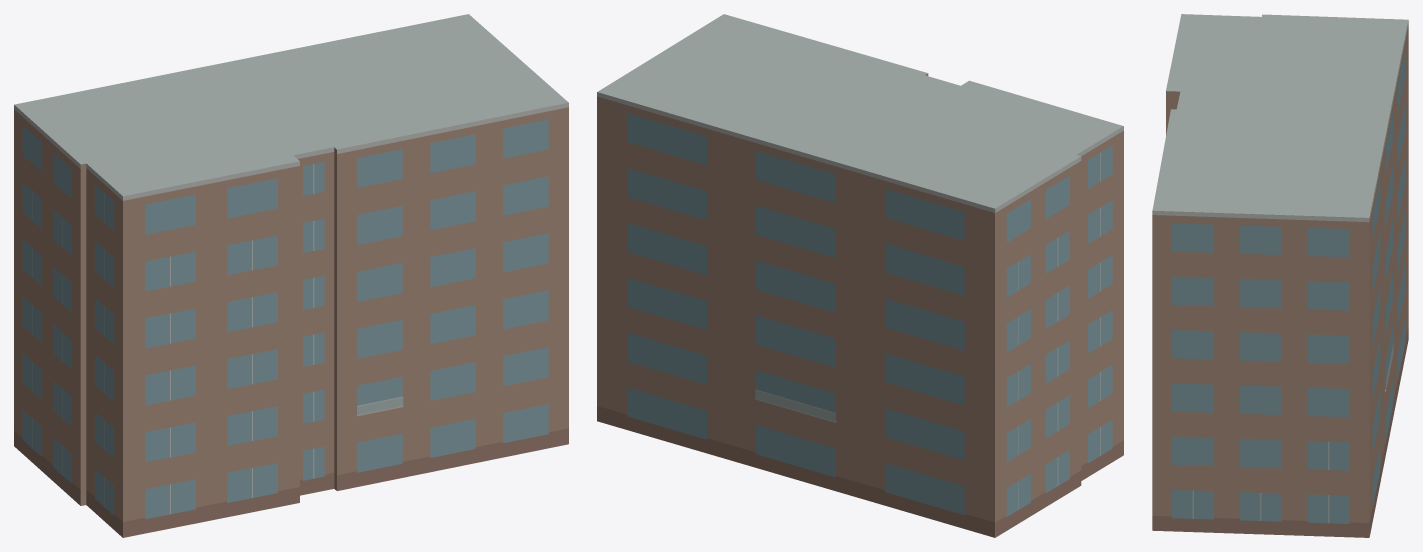
Rendered from survey-upis-32563272.glb.
3 views of the same model, side by side, from view 1: azimuth 30°, elevation 25°; view 2: azimuth 150°, elevation 25°; view 3: azimuth 270°, elevation 25° (orthographic). The views are drawn at different scales.
Parts seen in each view (by area): view 1: survey-upis-32563272.tmp; view 2: survey-upis-32563272.tmp; view 3: survey-upis-32563272.tmp.
Part boxes in pixels (x1,y1,x2,y2): survey-upis-32563272.tmp: (14, 14, 568, 537); survey-upis-32563272.tmp: (597, 14, 1123, 537); survey-upis-32563272.tmp: (1152, 14, 1408, 537).
Size of the model in its own units: 25.03 by 18.3 by 13.29.
